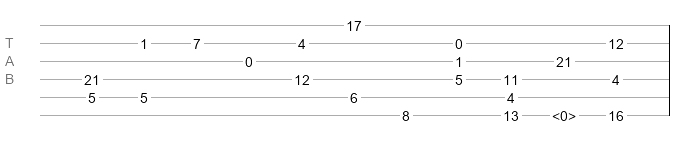0: (245, 54, 253, 64), (455, 36, 463, 46)
1: (140, 36, 148, 46), (455, 54, 463, 64)
11: (503, 72, 519, 82)
12: (294, 72, 310, 82), (608, 36, 624, 46)
13: (503, 108, 519, 118)
16: (608, 108, 624, 118)
17: (346, 18, 362, 28)
21: (84, 72, 100, 82), (556, 54, 572, 64)
4: (298, 36, 306, 46), (507, 90, 515, 100), (612, 72, 620, 82)
5: (88, 90, 96, 100), (140, 90, 148, 100), (455, 72, 463, 82)
6: (350, 90, 358, 100)
7: (193, 36, 201, 46)
8: (402, 108, 410, 118)
harmonic: (552, 108, 576, 118)
